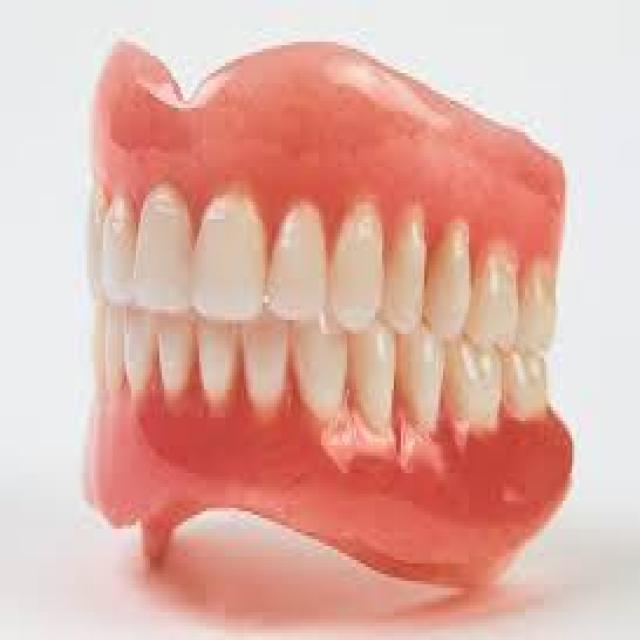tooth: (194, 174, 270, 323), (136, 170, 192, 320), (269, 188, 326, 327), (330, 188, 384, 334), (295, 313, 354, 421), (452, 320, 509, 428), (434, 202, 474, 344), (401, 316, 448, 432), (392, 191, 426, 348), (354, 316, 399, 432), (244, 306, 288, 421), (480, 230, 520, 351), (195, 313, 239, 414), (160, 309, 194, 414), (525, 247, 558, 355), (127, 313, 157, 404), (509, 351, 551, 414), (103, 310, 127, 393)
